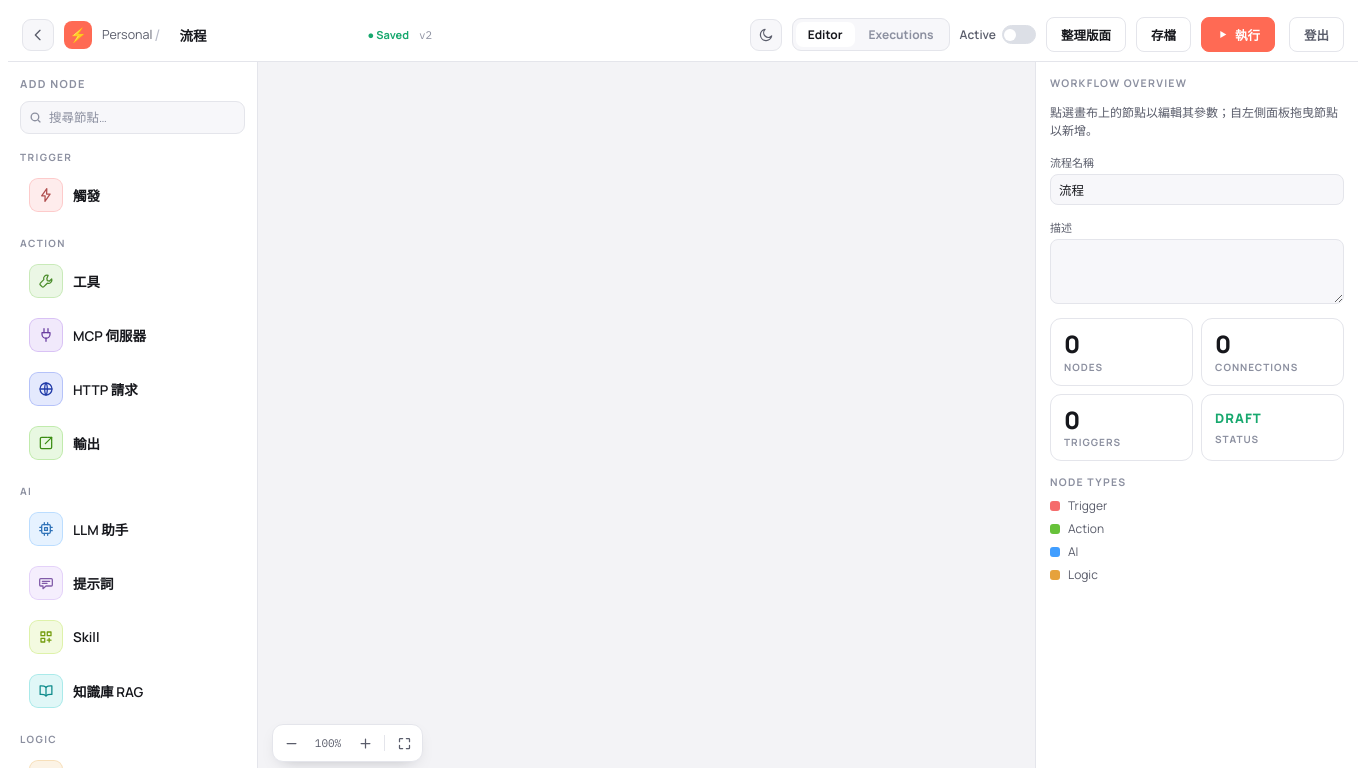
Test: WorkflowEditorView › 工具列名稱 inline input 應改寫 store.current.name 並標記未存
Step 1. Replace the text in the field with test id "toolbar-name-input" with "新流程名" → (264, 34), box [170,20,358,50]
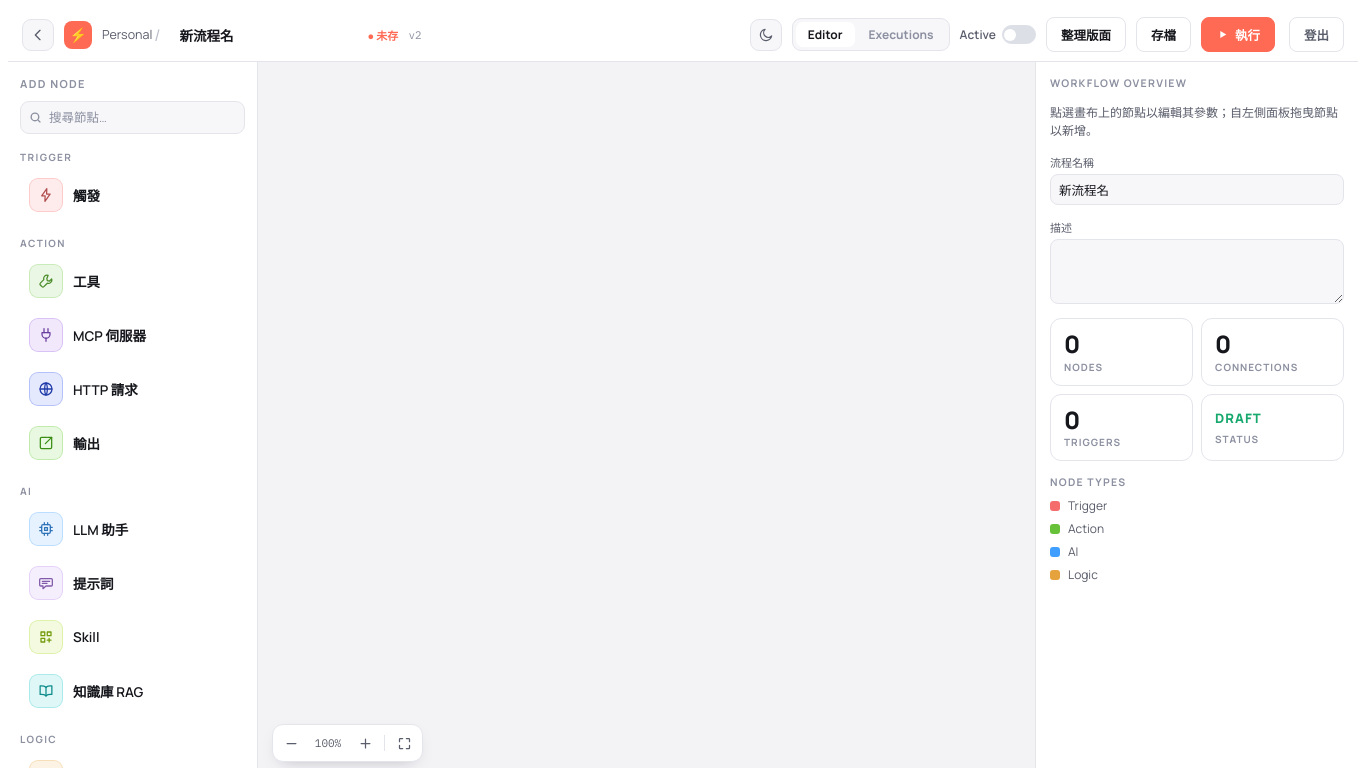
Check: the text "● 未存" is shown, box [368,26,398,42]
